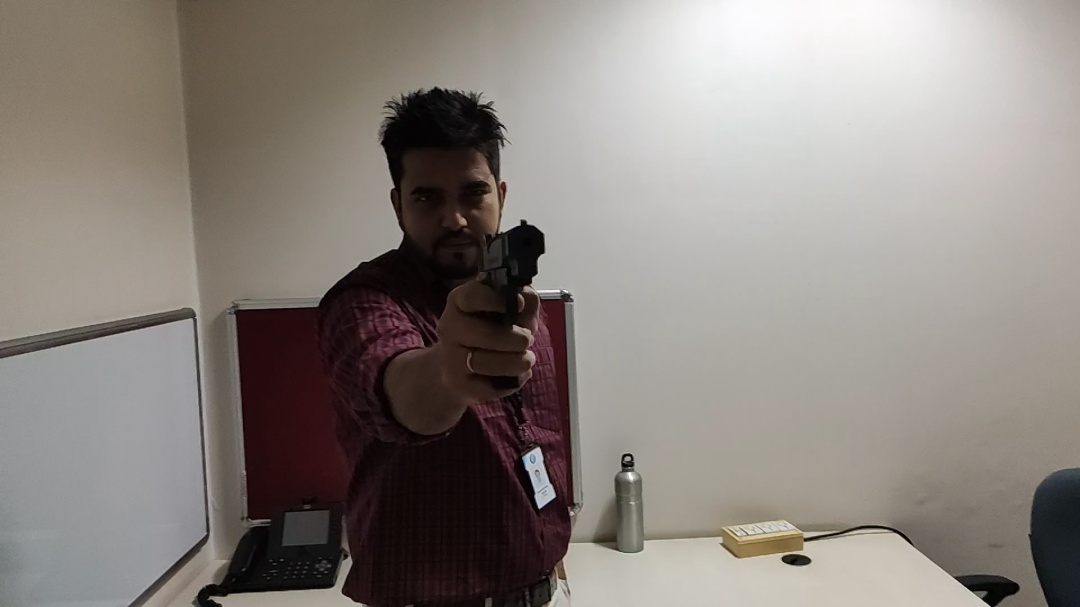gun: (471, 215, 551, 402)
